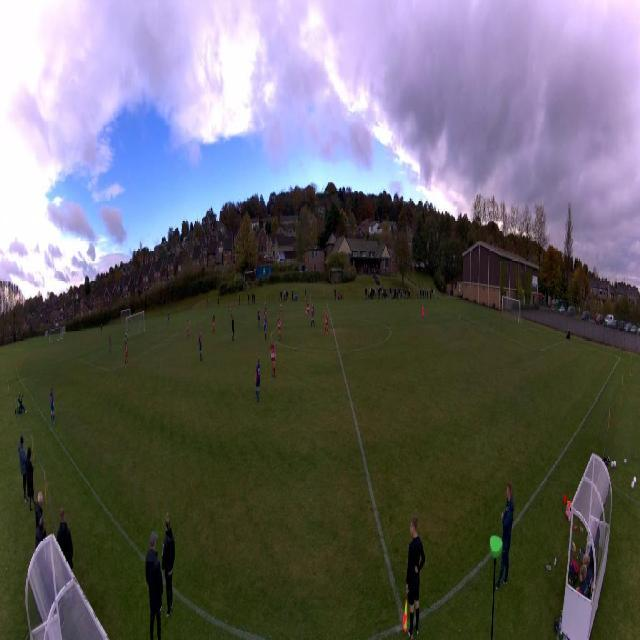ball: (128, 341, 129, 343)
player: (269, 339, 276, 378), (255, 357, 261, 402), (50, 386, 55, 424), (323, 309, 329, 335), (197, 331, 202, 362), (263, 315, 268, 340), (310, 303, 315, 327), (277, 314, 281, 340), (231, 316, 235, 342), (125, 342, 129, 368), (305, 301, 310, 321), (257, 309, 261, 329), (264, 308, 268, 328), (186, 321, 190, 339), (279, 298, 283, 314), (421, 304, 424, 324), (109, 336, 112, 355), (212, 316, 215, 334), (230, 302, 233, 318), (264, 296, 267, 311), (125, 331, 128, 343), (168, 311, 170, 325), (227, 300, 229, 312)
